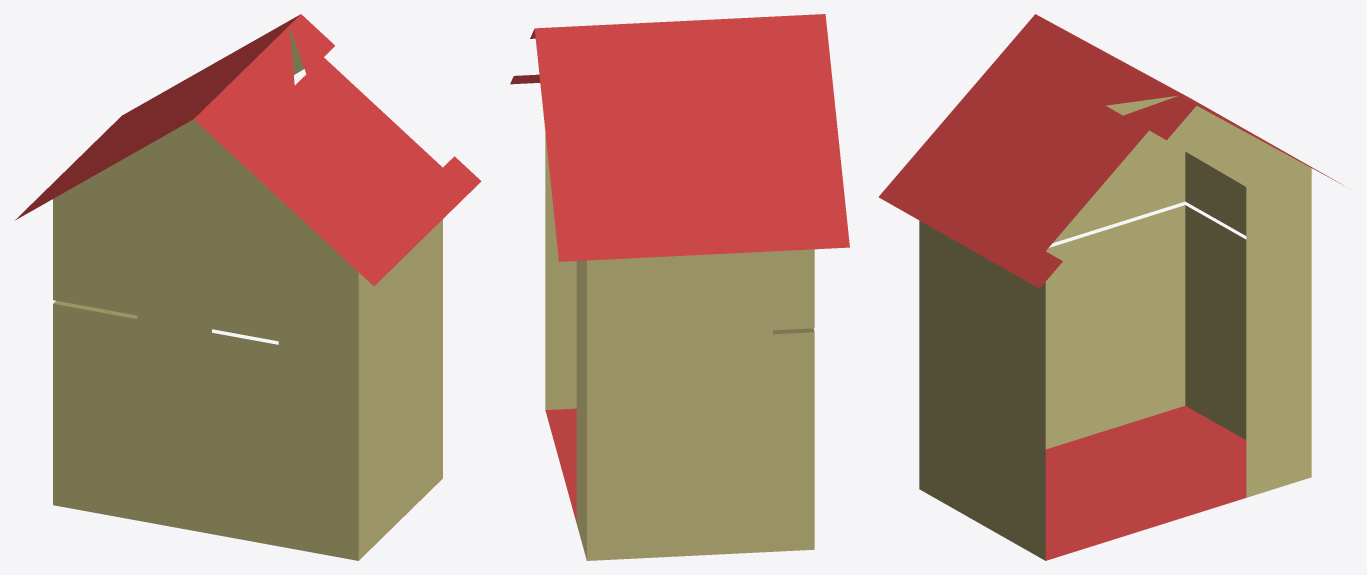
3 views of the same model, side by side, from view 1: azimuth 30°, elevation 25°; view 2: azimuth 150°, elevation 25°; view 3: azimuth 270°, elevation 25° (orthographic). The views are drawn at different scales.
Size of the model in its own units: 11.48 by 12.12 by 11.93.
